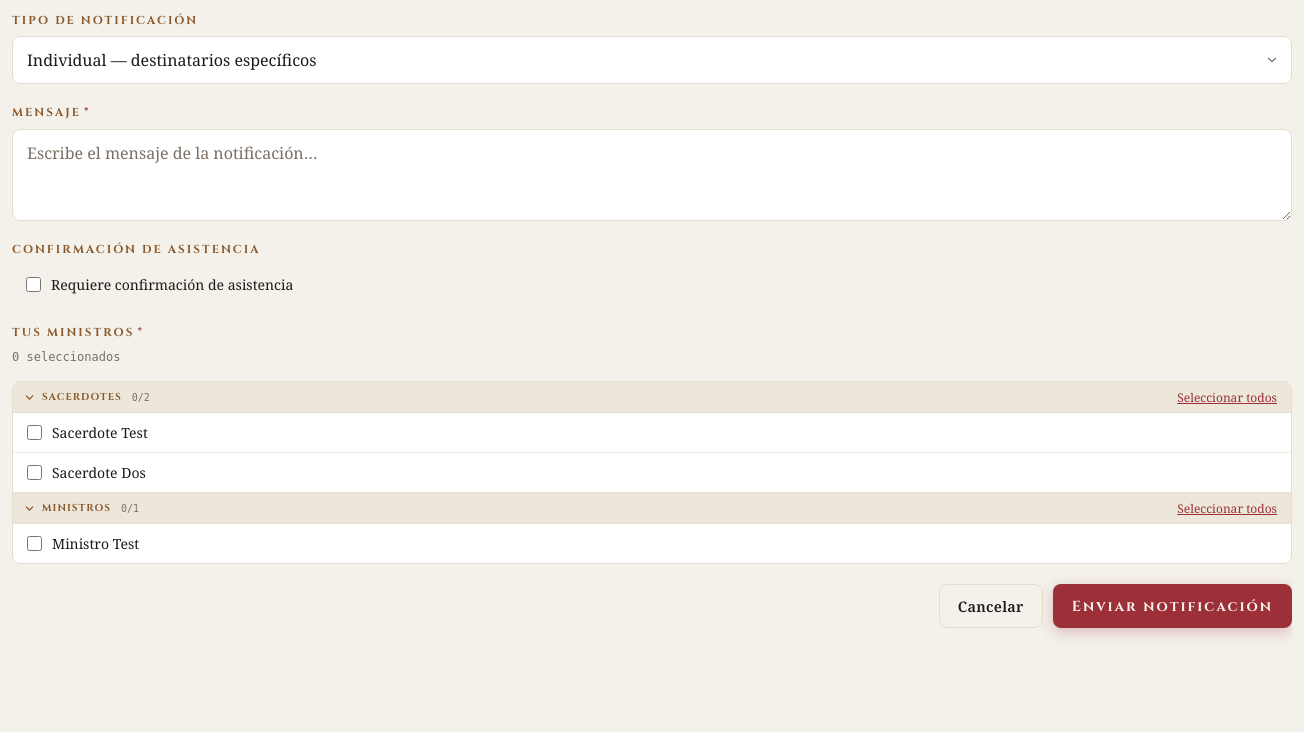
it: EnviarNotificacionForm › valida datos incompletos antes de enviar
Note: Tipo individual por defecto. Falla por falta de mensaje primero.
Click the button "Enviar notificación" at point(1172, 606), box [1053,584,1292,628]
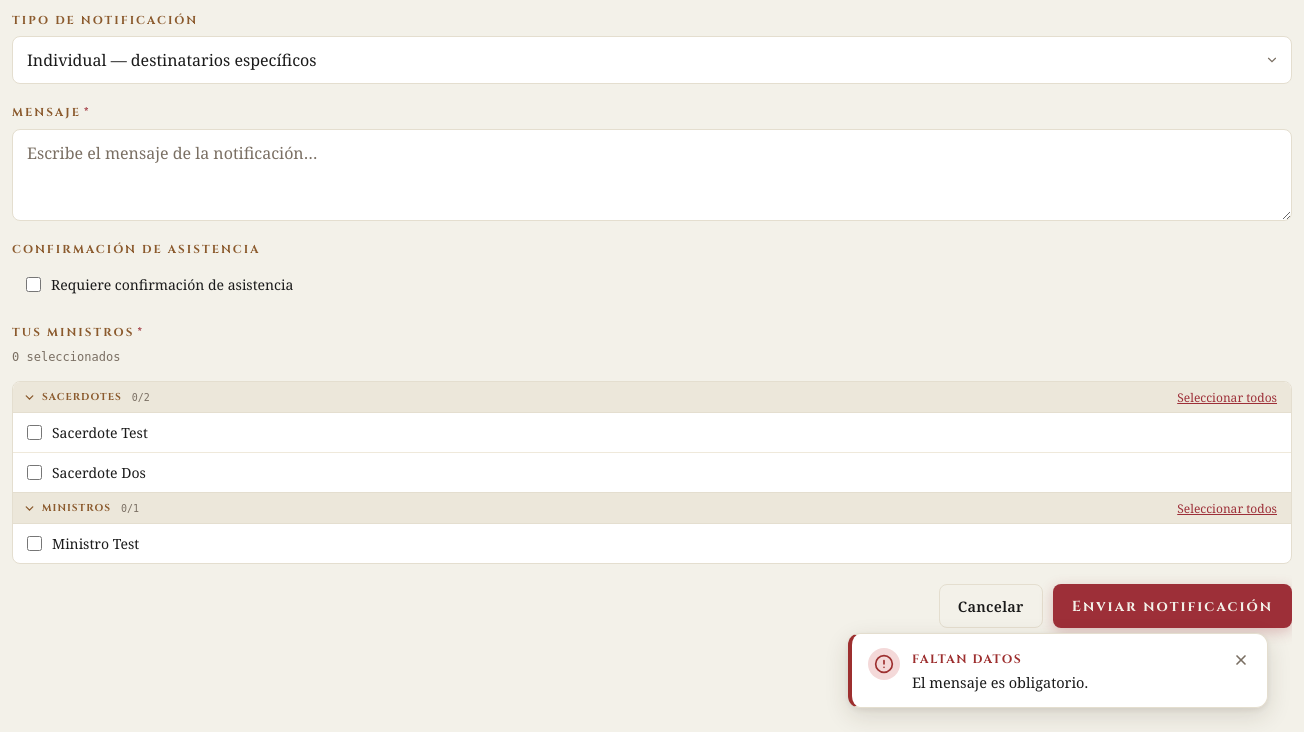
Expected: the text "El mensaje es obligatorio." is shown, [912,672,1088,692]
Type "Test" into the text box with placeholder "Escribe el mensaje de la notificación…" at point(652, 174), box [12,128,1292,220]
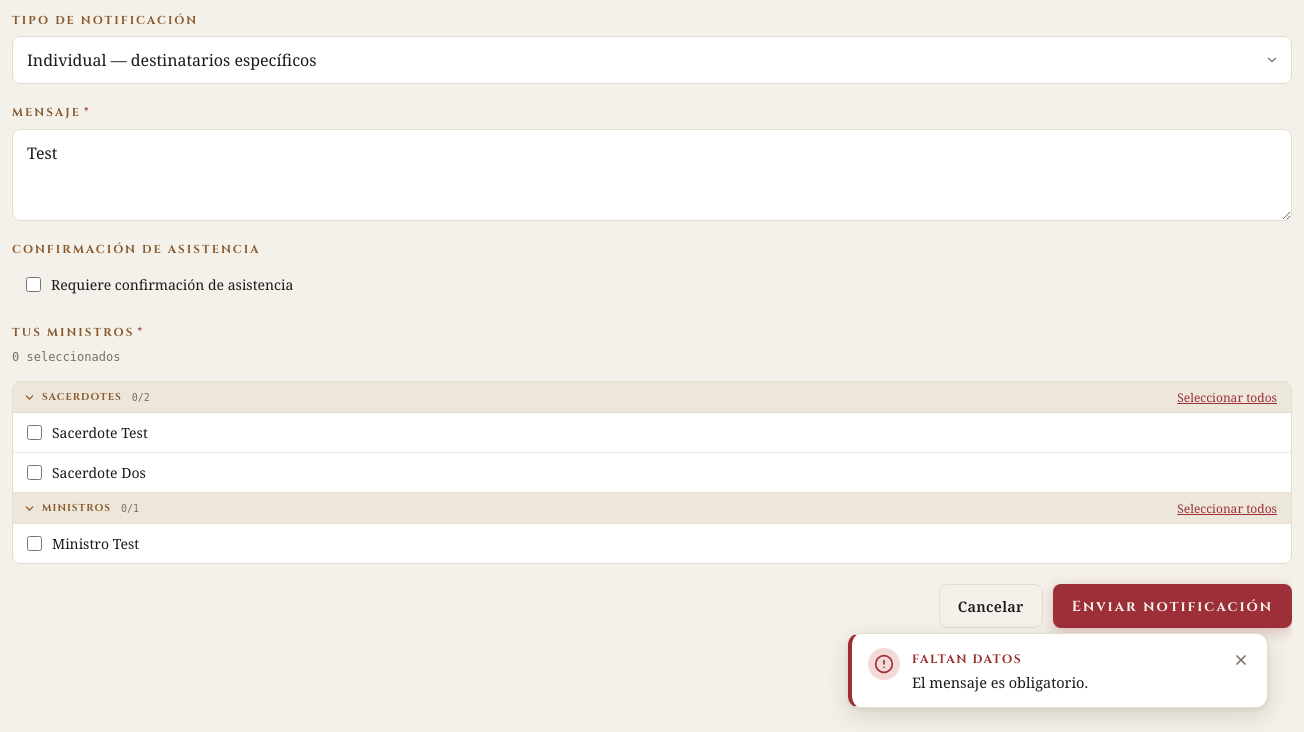
Click the button "Enviar notificación" at point(1172, 606), box [1053,584,1292,628]
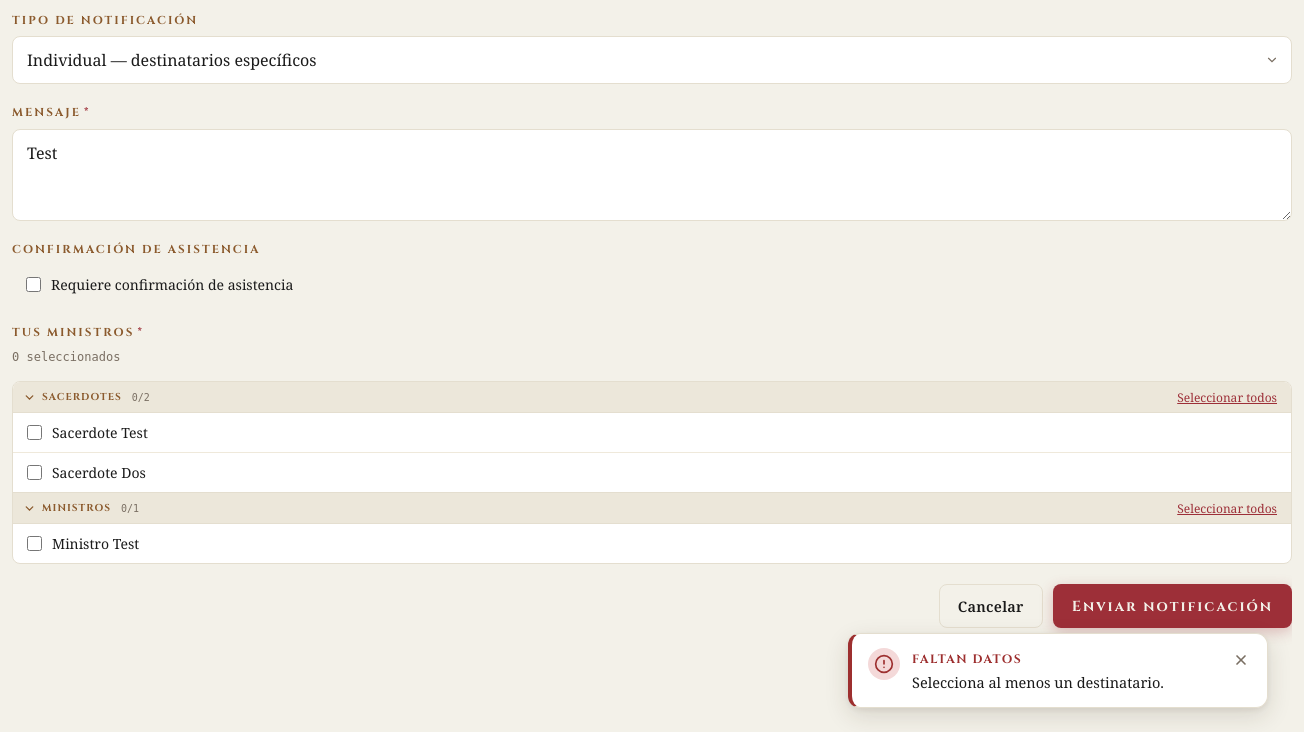
Expected: the text "Selecciona al menos un destinatario." is shown, [912,672,1164,692]
